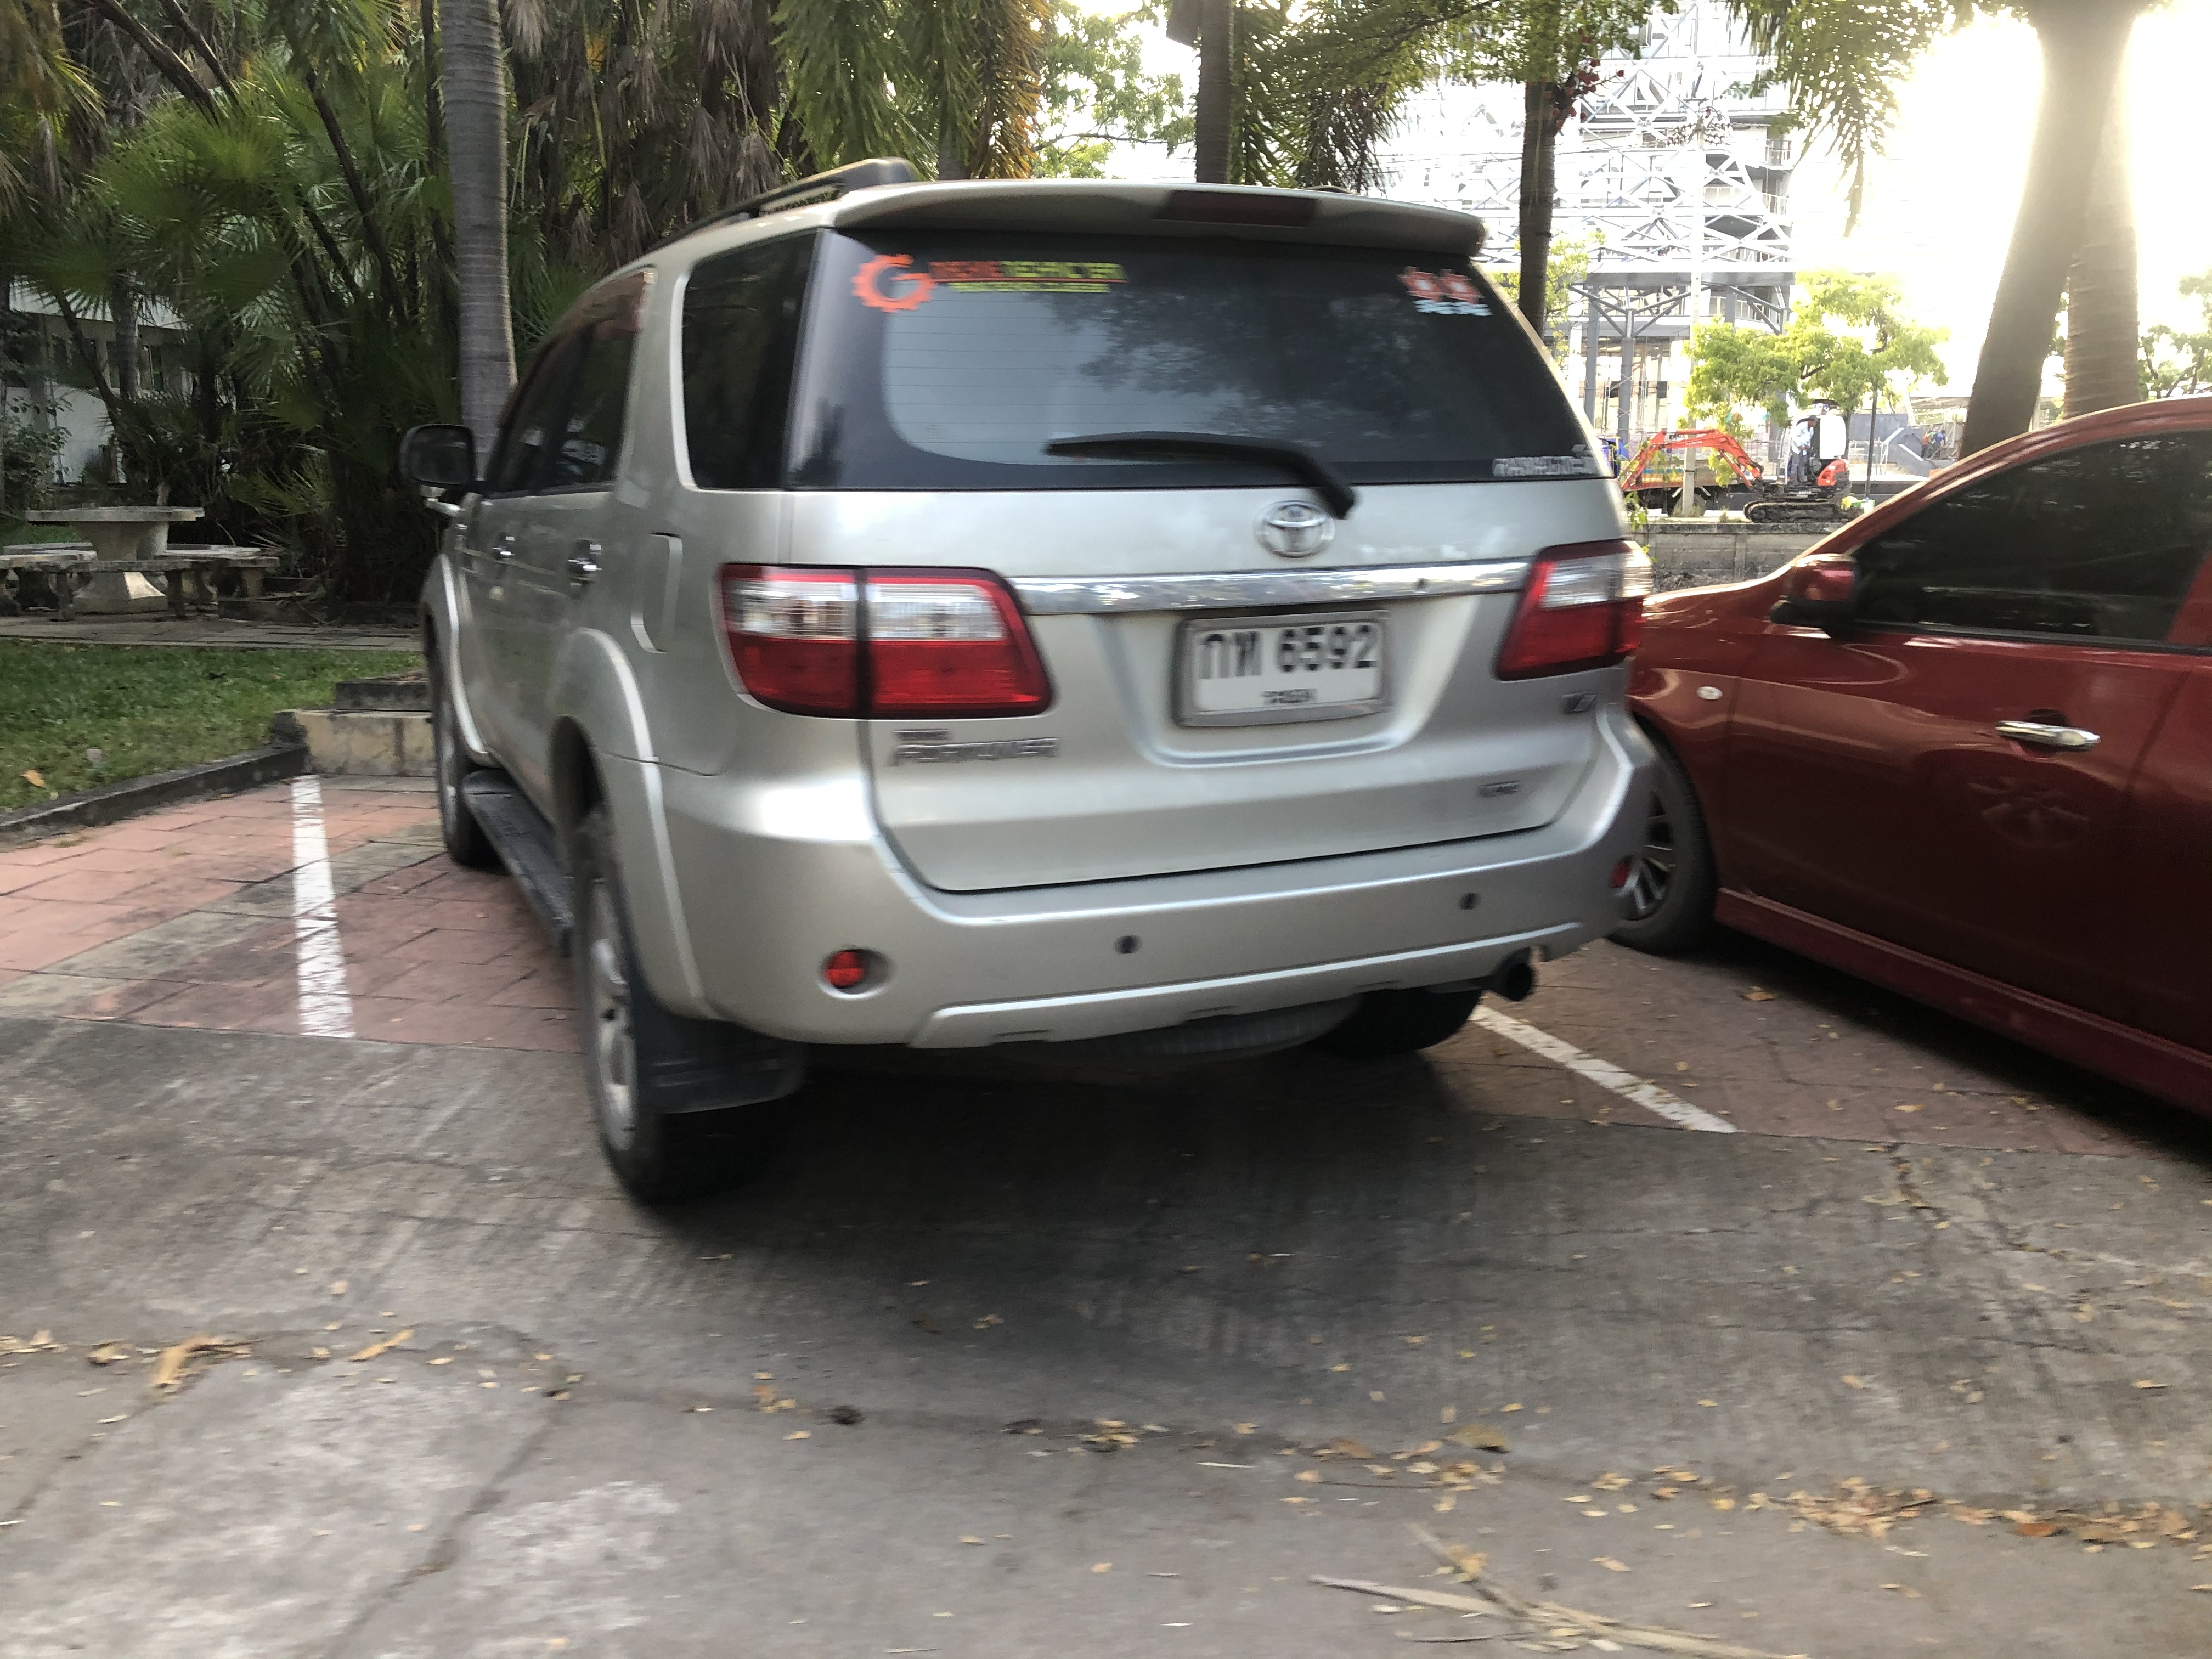in: (1195, 624, 1381, 714)
out: (1170, 596, 1407, 734)
